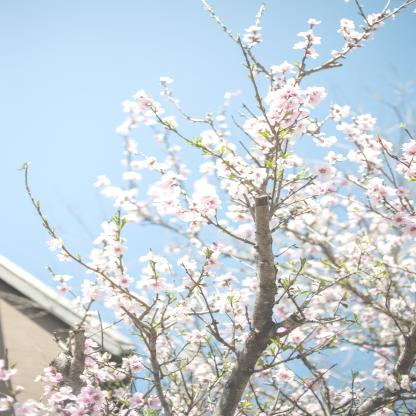Momo: (0, 0, 414, 416)
